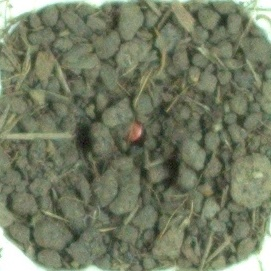chilli seed: (115, 115, 150, 146)
